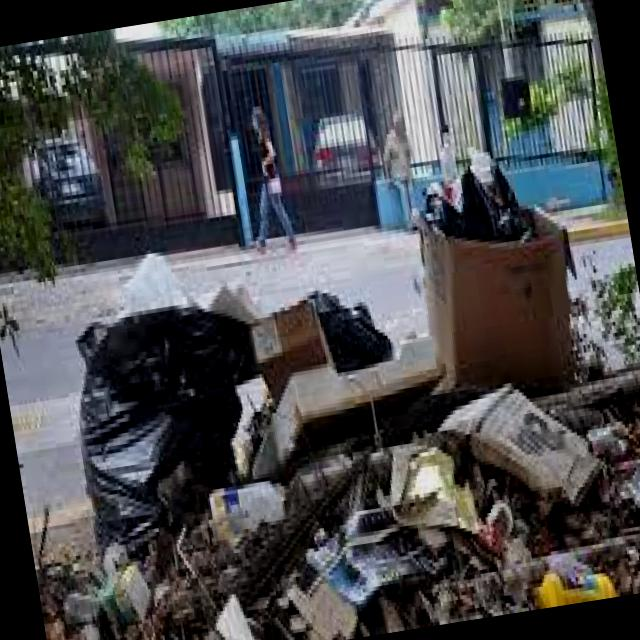garbage: (38, 136, 640, 640)
